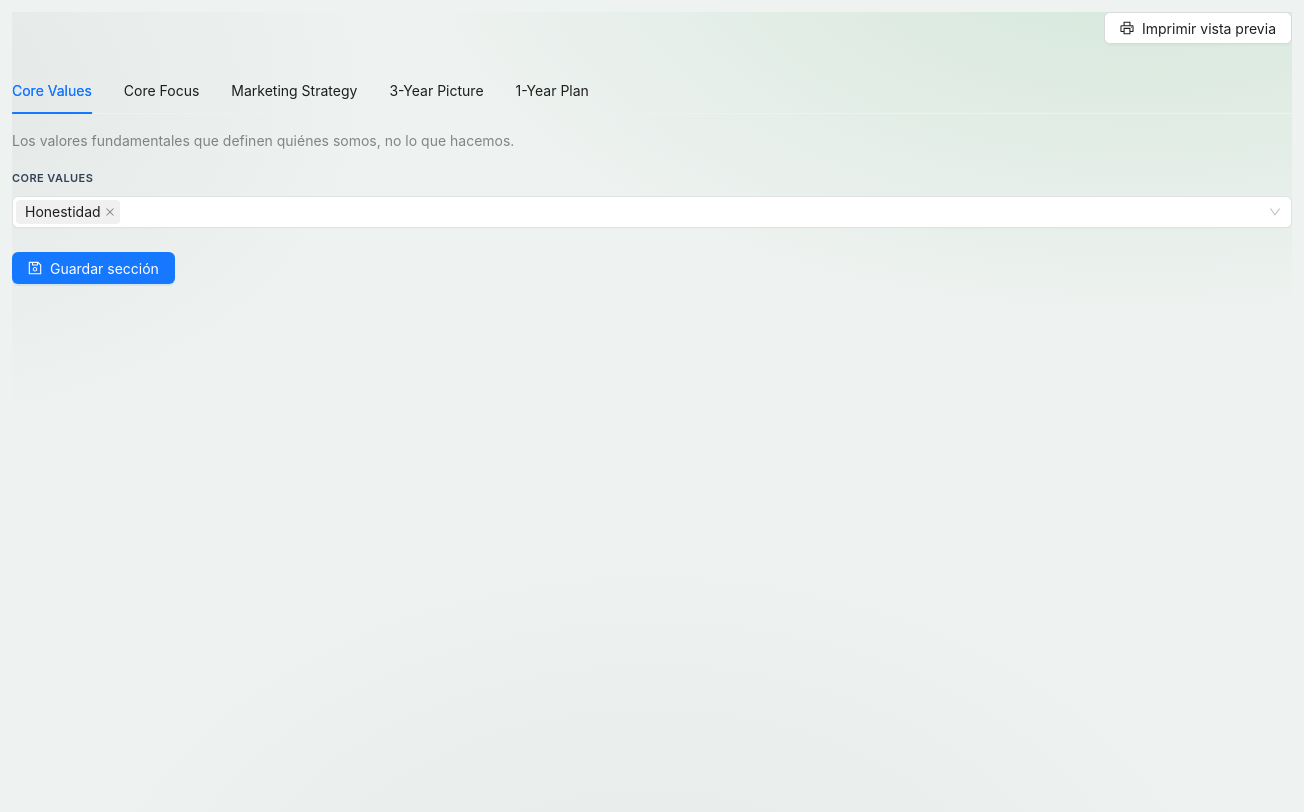
VTOPage › only offers company rocks (isCompanyRock: true) in the 1-Year Plan tab
Expected: the text "Honestidad" is shown, [25, 201, 101, 223]
Click the tab "1-Year Plan" at coordinates (552, 91), box [516, 80, 589, 102]
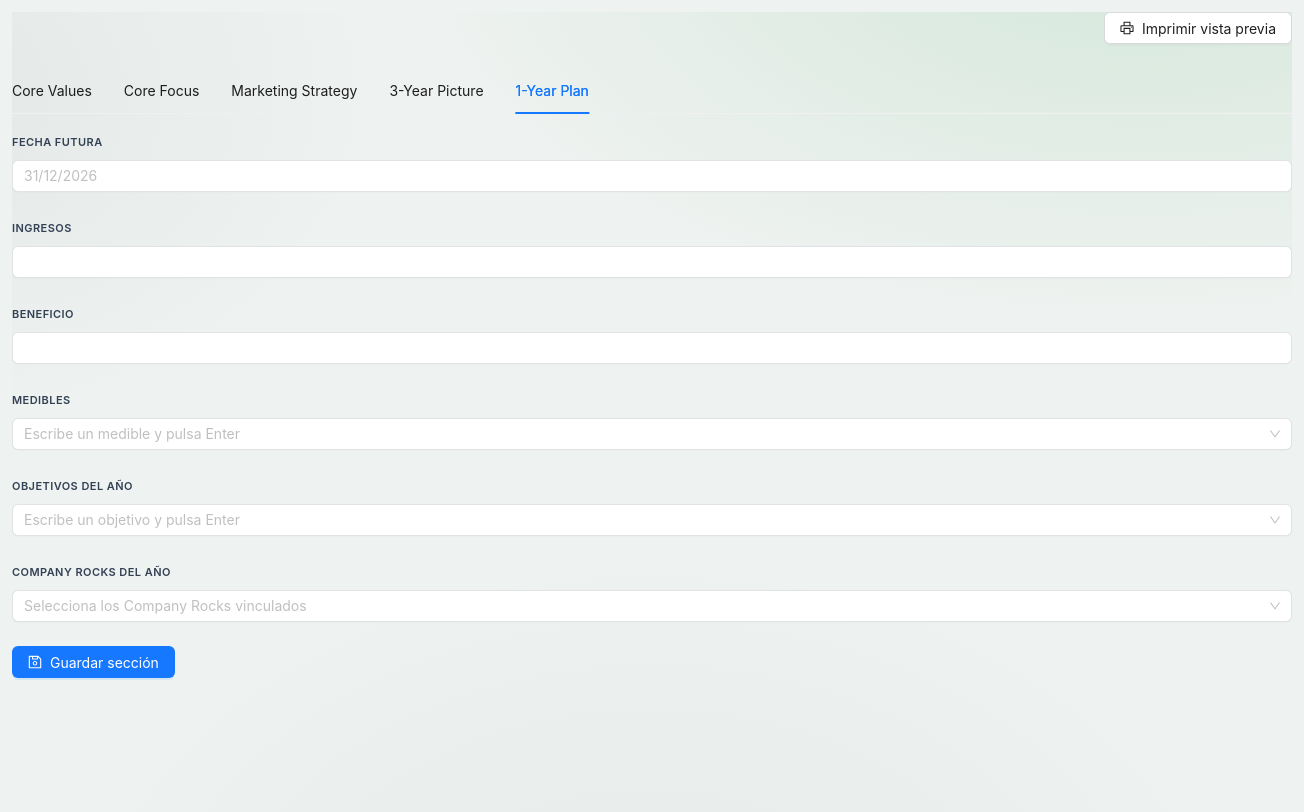
Click the dropdown labelled "Company Rocks del año" at coordinates (98, 573), box [12, 564, 185, 581]
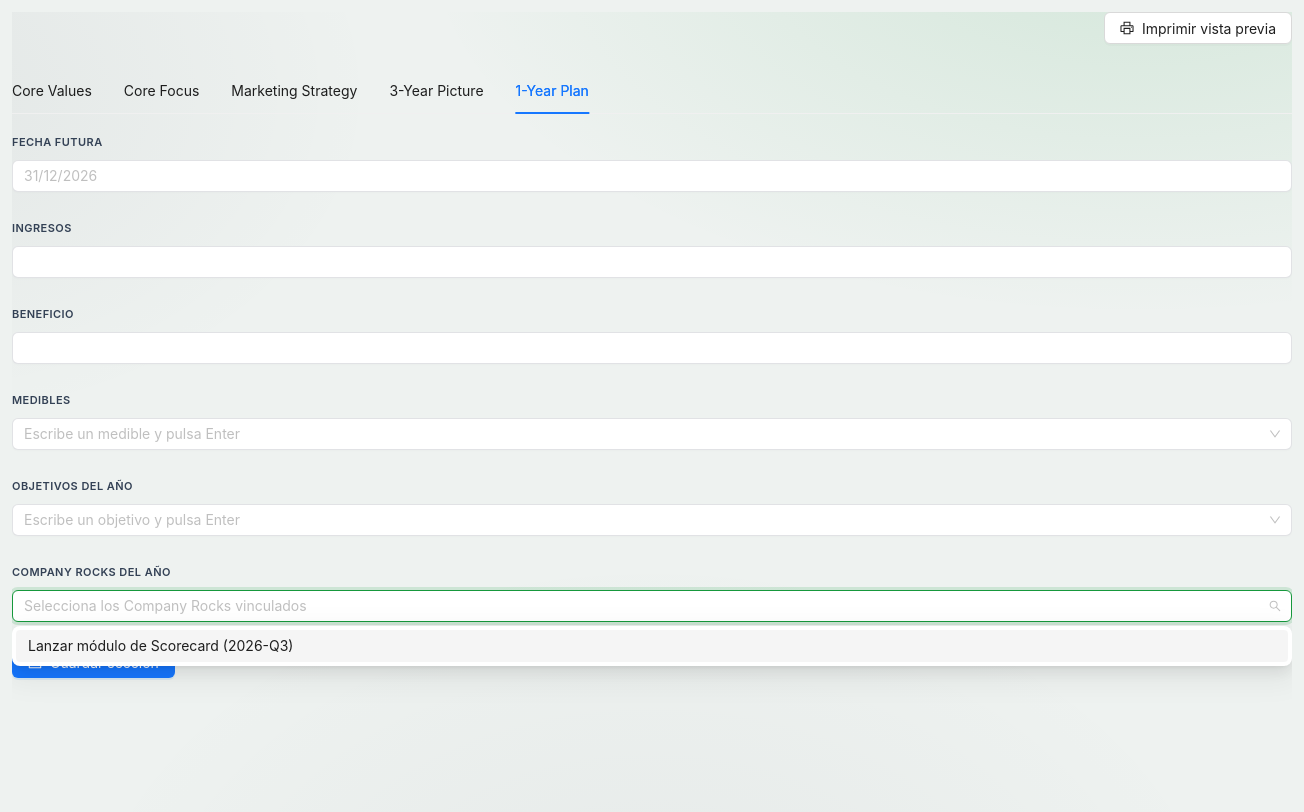
Expected: the text "Lanzar módulo de Scorecard (2026-Q3)" is shown, [28, 637, 294, 654]
